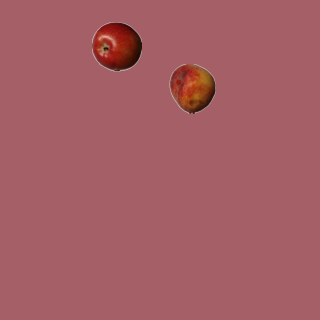Apple Braeburn: (91, 21, 141, 71)
Peach: (167, 63, 217, 113)
